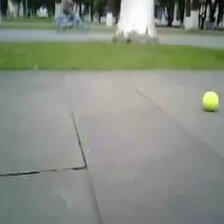tennis: (202, 91, 220, 112)
